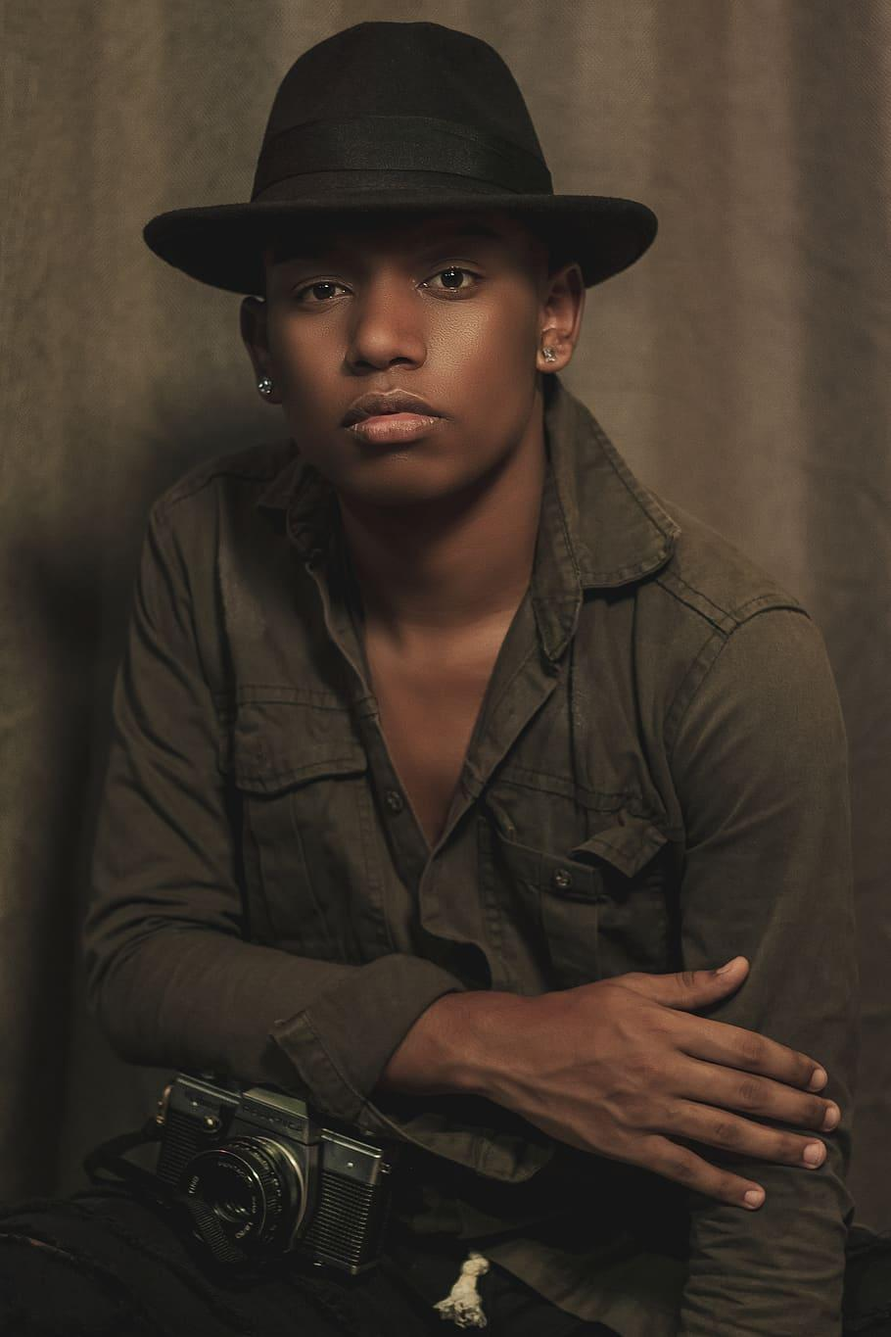cap: (120, 7, 679, 316)
